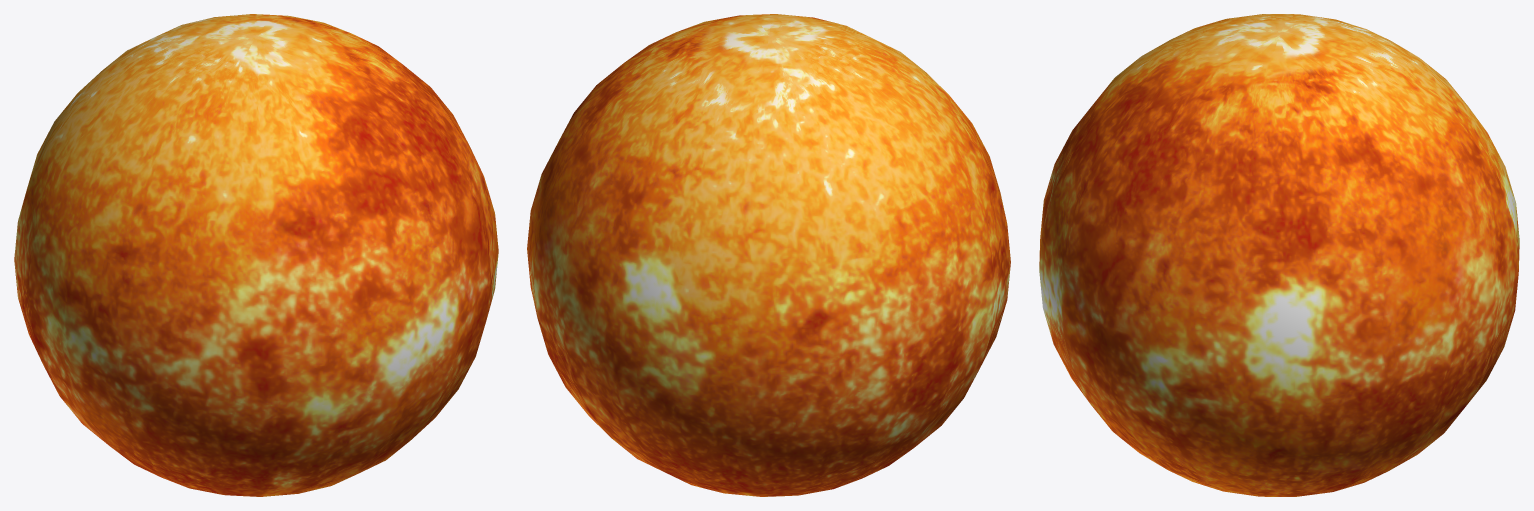
Rendered from sun.glb.
3 renders of one model, left to right at view 1: azimuth 30°, elevation 25°; view 2: azimuth 150°, elevation 25°; view 3: azimuth 270°, elevation 25°, orthographic.
Parts seen in each view (by area): view 1: Sun; view 2: Sun; view 3: Sun.
Boxes of the visible parts, <box> form: Sun: <box>14,14,498,496</box>; Sun: <box>527,14,1010,496</box>; Sun: <box>1039,14,1519,496</box>.
Size of the model in its own units: 1.98 by 2 by 1.98.
1 material, 1 textured.
